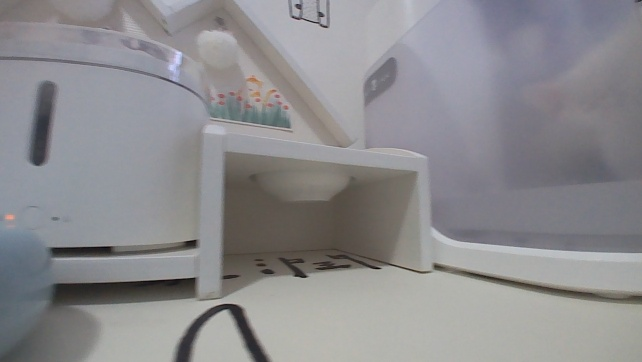blanket: (25, 245, 641, 361)
